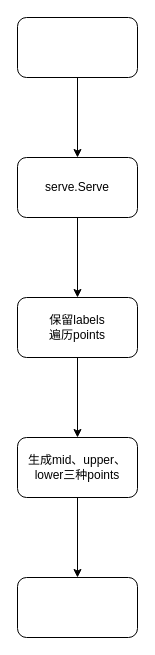
Image size: 155x655. Some labels were removed from this diagram. Each missing label, with the centre of its shape:
"main" belongs at point (77, 47).
"加上labels，然后返回ck" belongs at point (77, 607).
